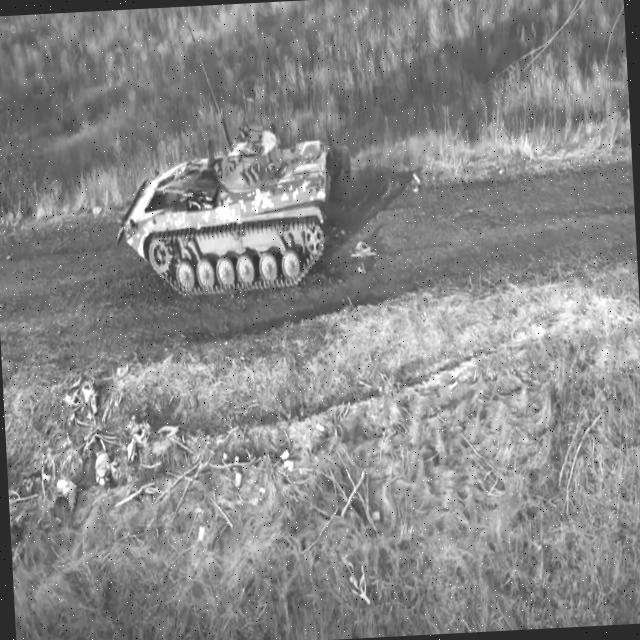AIFV: (116, 123, 344, 295)
